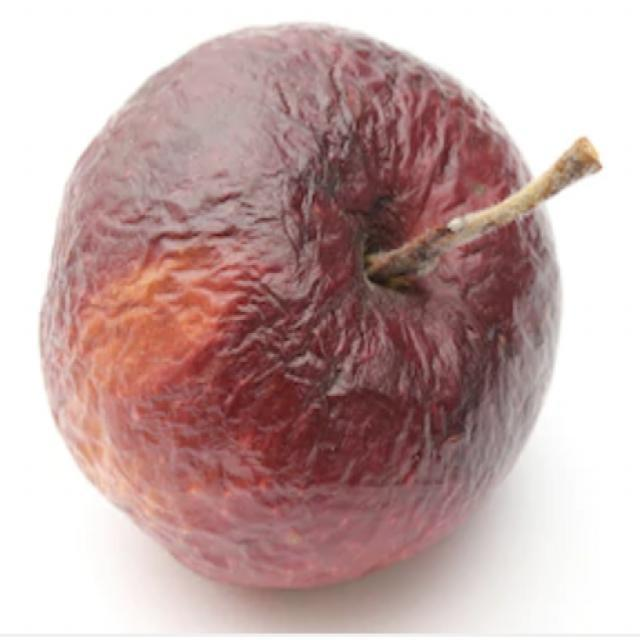Rotten: (37, 22, 564, 596)
